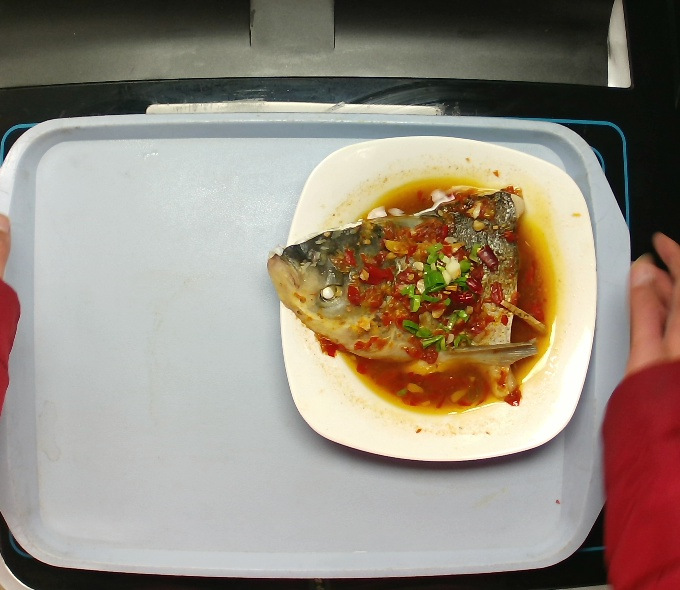wcq-DuoJiaoYuTou: (265, 179, 559, 414)
